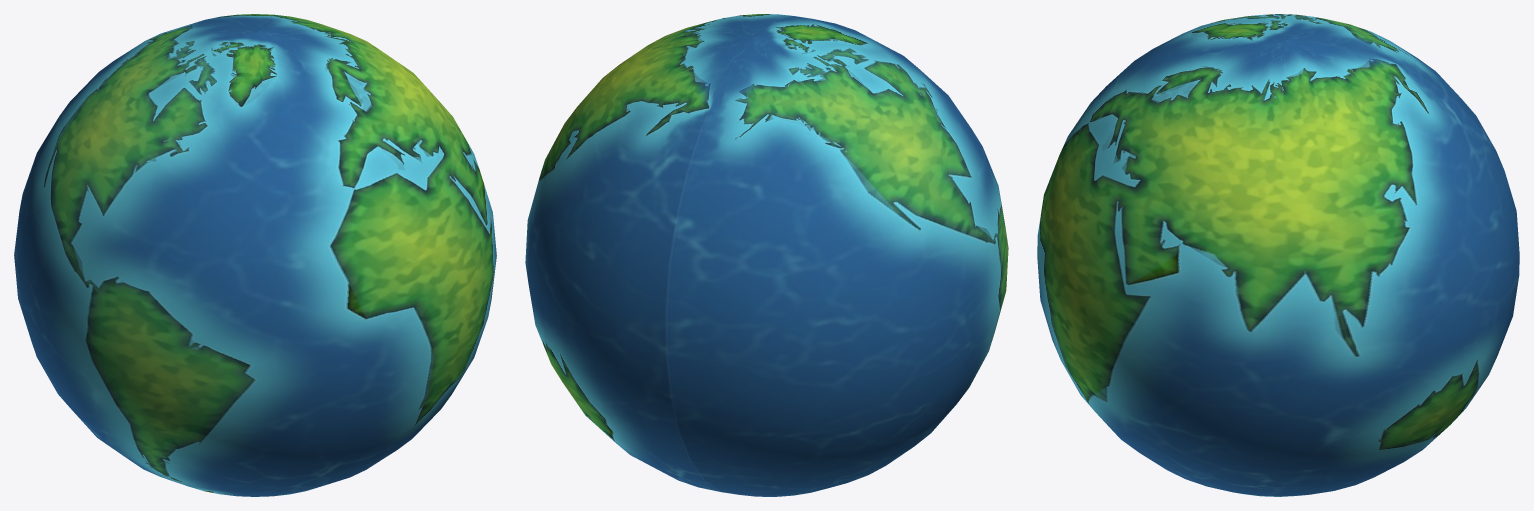
The model's file is earth.glb.
3 renders of one model, left to right at view 1: azimuth 30°, elevation 25°; view 2: azimuth 150°, elevation 25°; view 3: azimuth 270°, elevation 25°, orthographic.
Visible parts, largest first — view 1: Earth; view 2: Earth; view 3: Earth.
Boxes of the visible parts, x1=… form: Earth: x1=14, y1=14, x2=496, y2=496; Earth: x1=525, y1=14, x2=1008, y2=496; Earth: x1=1037, y1=14, x2=1519, y2=496.
Size of the model in its own units: 0.9043 by 0.9078 by 0.9044.
1 material, 1 textured.
